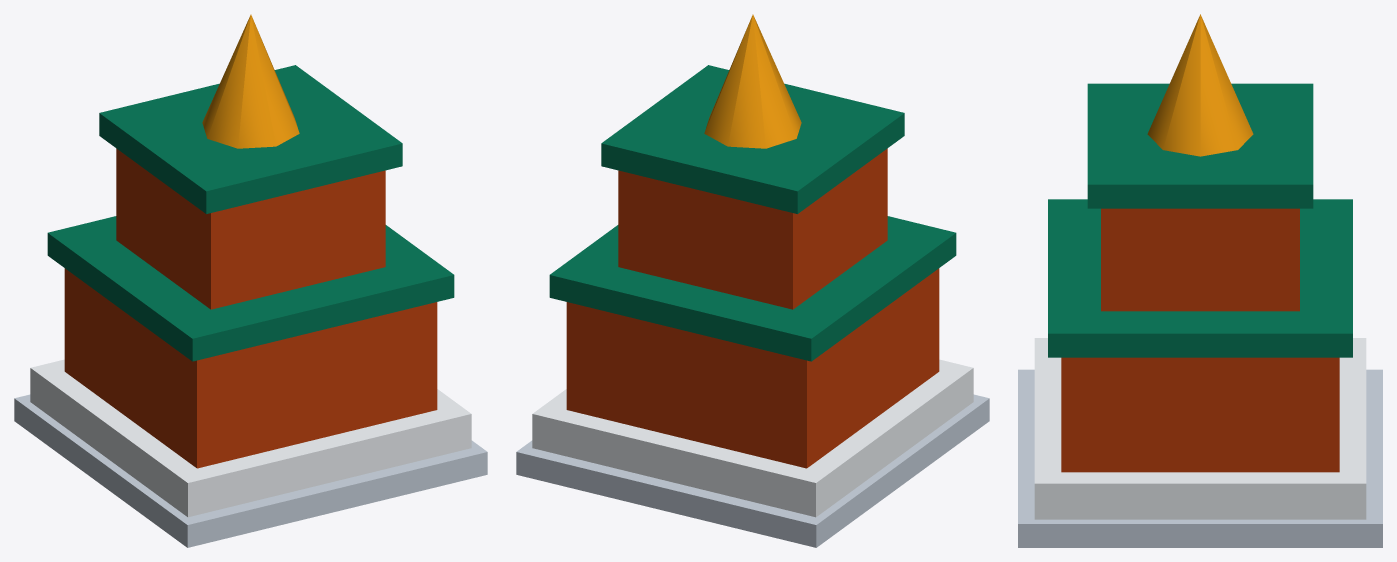
Rendered from bld_c3_cell_3.glb.
The picture shows the model from 3 angles, left to right: view 1: azimuth 30°, elevation 25°; view 2: azimuth 150°, elevation 25°; view 3: azimuth 270°, elevation 25°; orthographic projection. The views are drawn at different scales.
Parts seen in each view (by area): view 1: Bld_C3_Cell_3_BespokeLandmark; view 2: Bld_C3_Cell_3_BespokeLandmark; view 3: Bld_C3_Cell_3_BespokeLandmark.
Boxes of the visible parts, <box> form: Bld_C3_Cell_3_BespokeLandmark: <box>14,14,487,547</box>; Bld_C3_Cell_3_BespokeLandmark: <box>516,14,989,547</box>; Bld_C3_Cell_3_BespokeLandmark: <box>1018,14,1382,547</box>.
Bounding box in the file's own units: 0.55 × 0.76 × 0.55.
